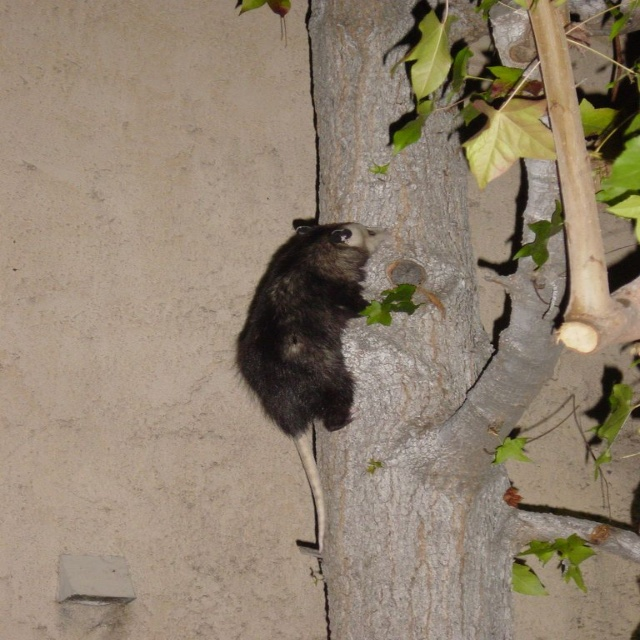Mouse: (233, 220, 391, 548)
